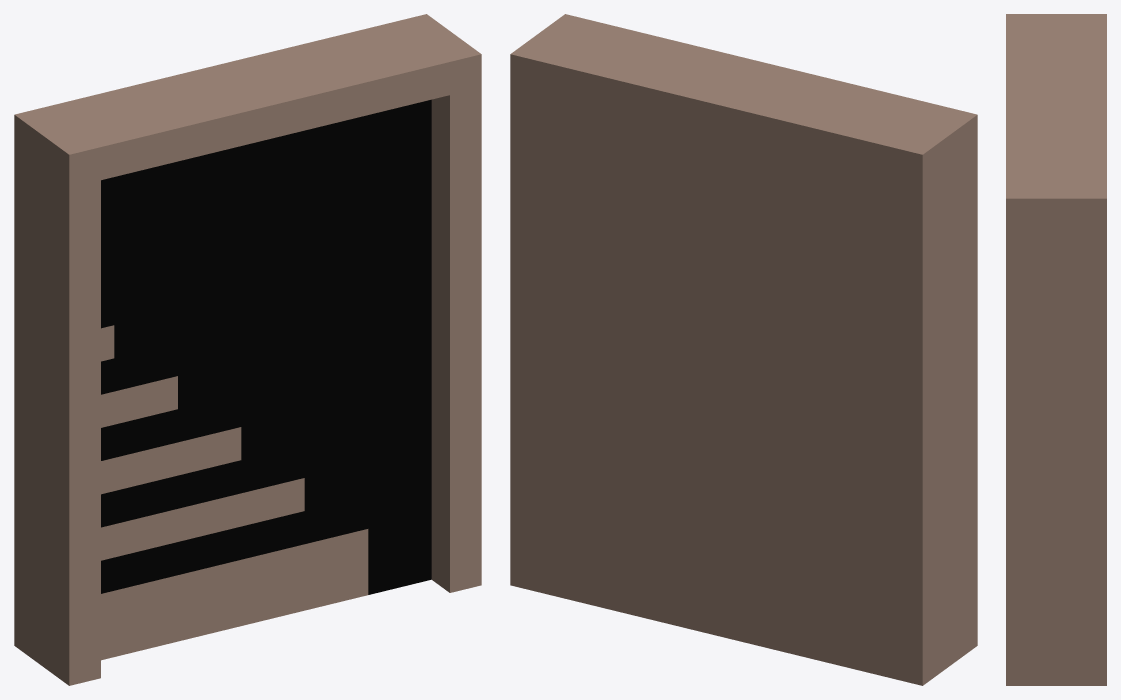
The model's file is dungeon_a_b_entrance_b_flipped.obj.
3 renders of one model, left to right at view 1: azimuth 30°, elevation 25°; view 2: azimuth 150°, elevation 25°; view 3: azimuth 270°, elevation 25°, orthographic. The views are drawn at different scales.
Bounding box in the file's own units: 1.3 × 1.6 × 0.3.
Materials: 1 (1 with a texture image).
